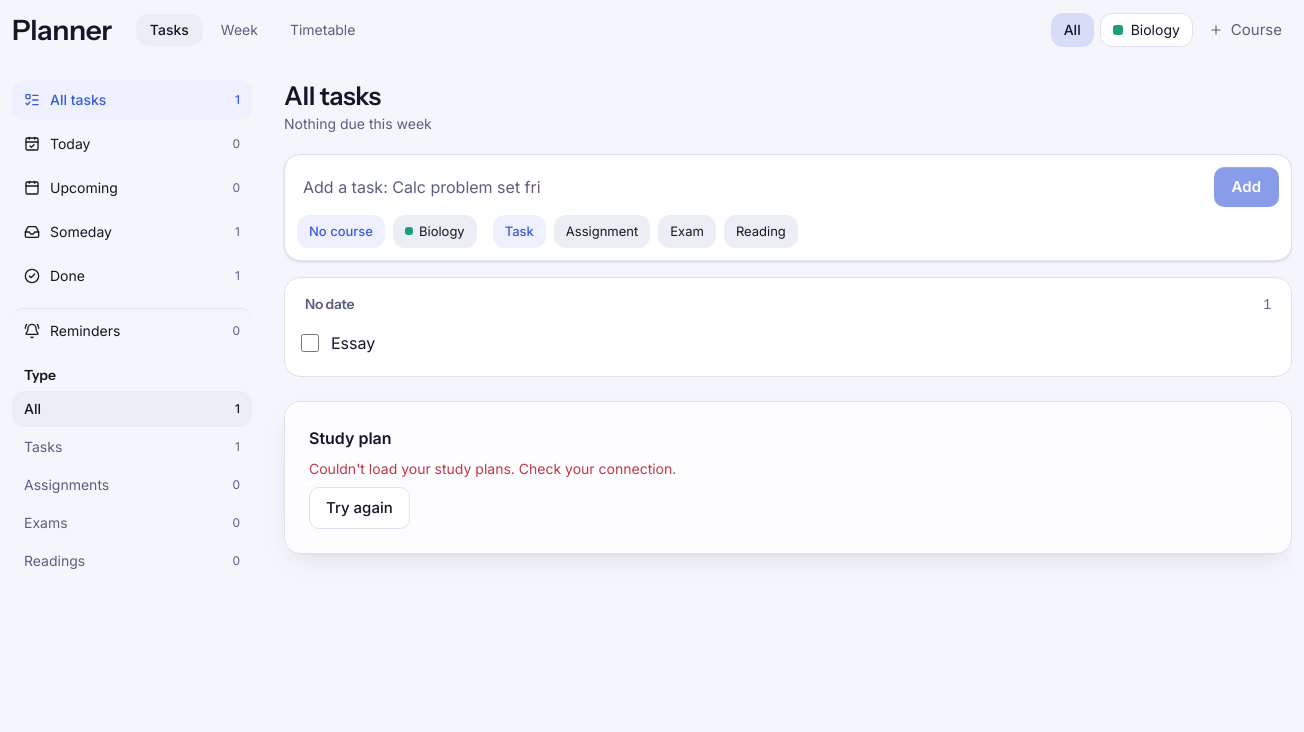
Scenario: Task list › keeps finished tasks in the Done list, which can bring one back
Check: the text "Old lab" is not shown
Click the button "Done 1". click: [132, 276]
box: [12,256,252,296]
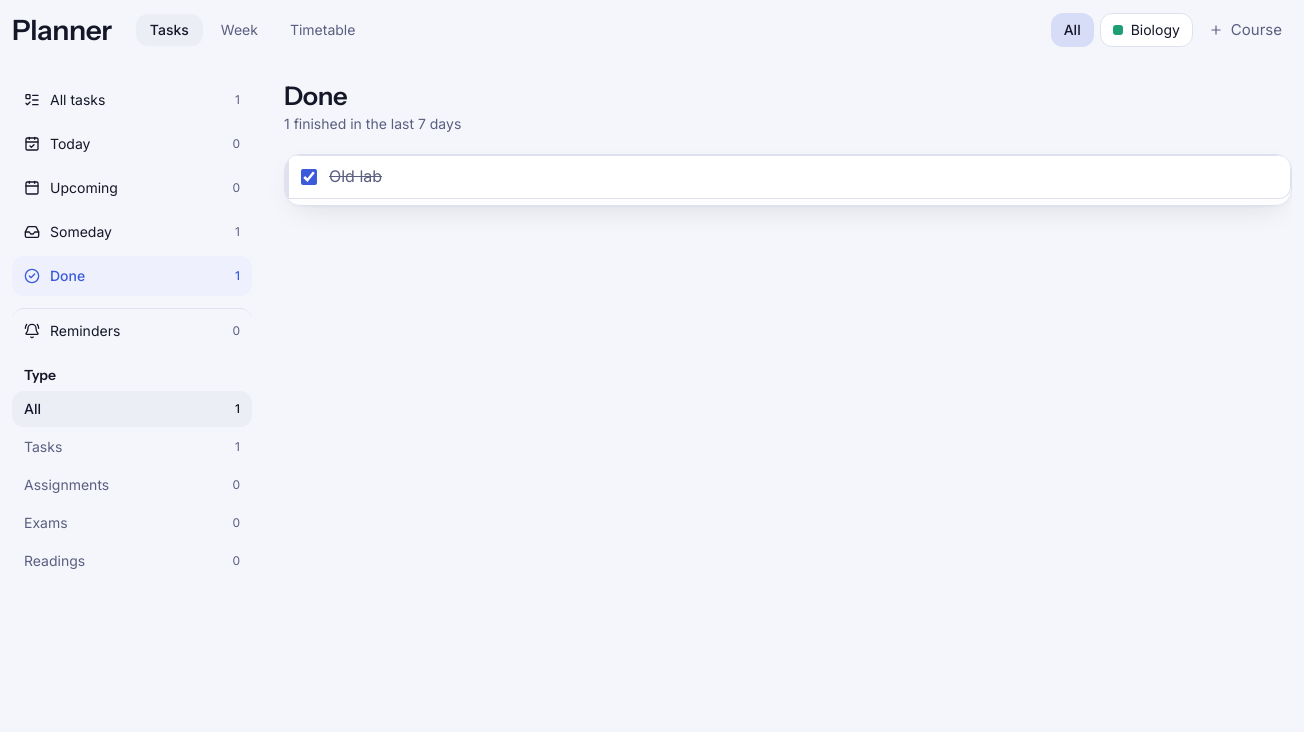
Check: the heading "Done" is shown, box [284,80,347,111]
Click the checkbox named "Mark Old lab done". click: [309, 177]
box: [301,169,317,185]
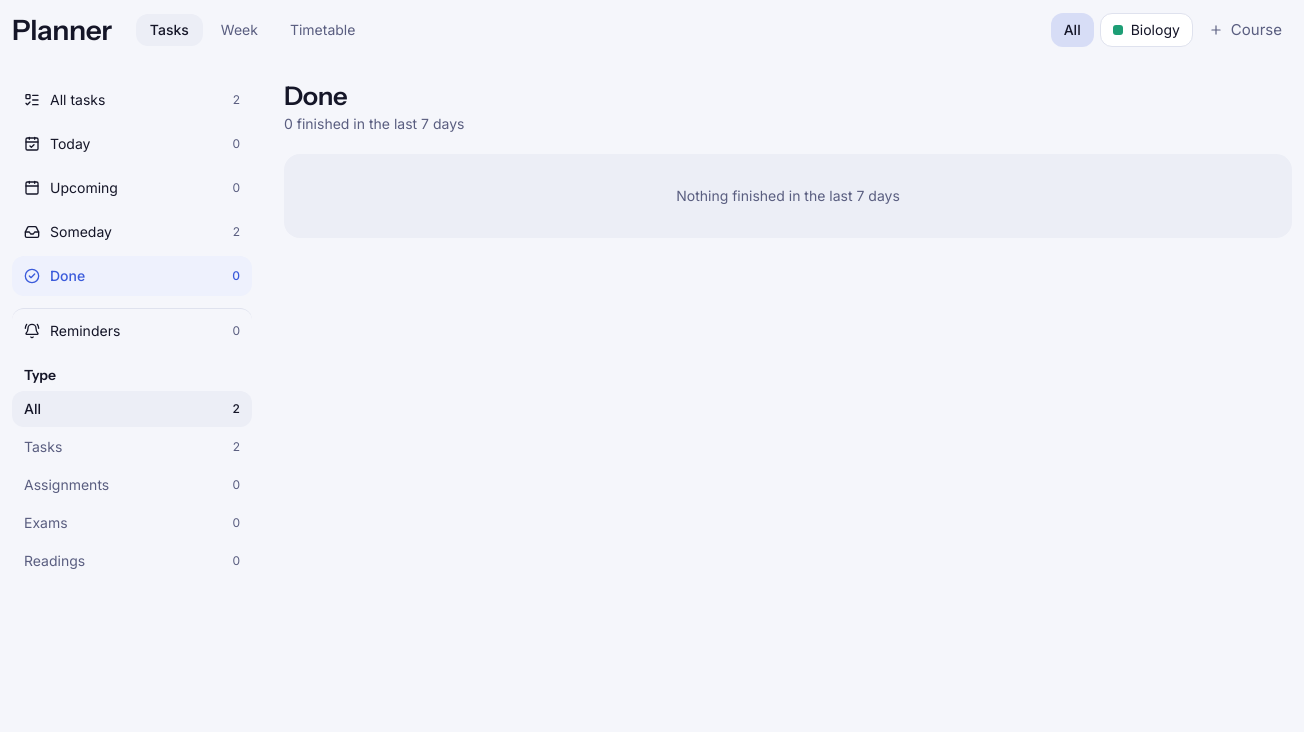
Click the button "All tasks 2". click: [132, 100]
box: [12,80,252,120]
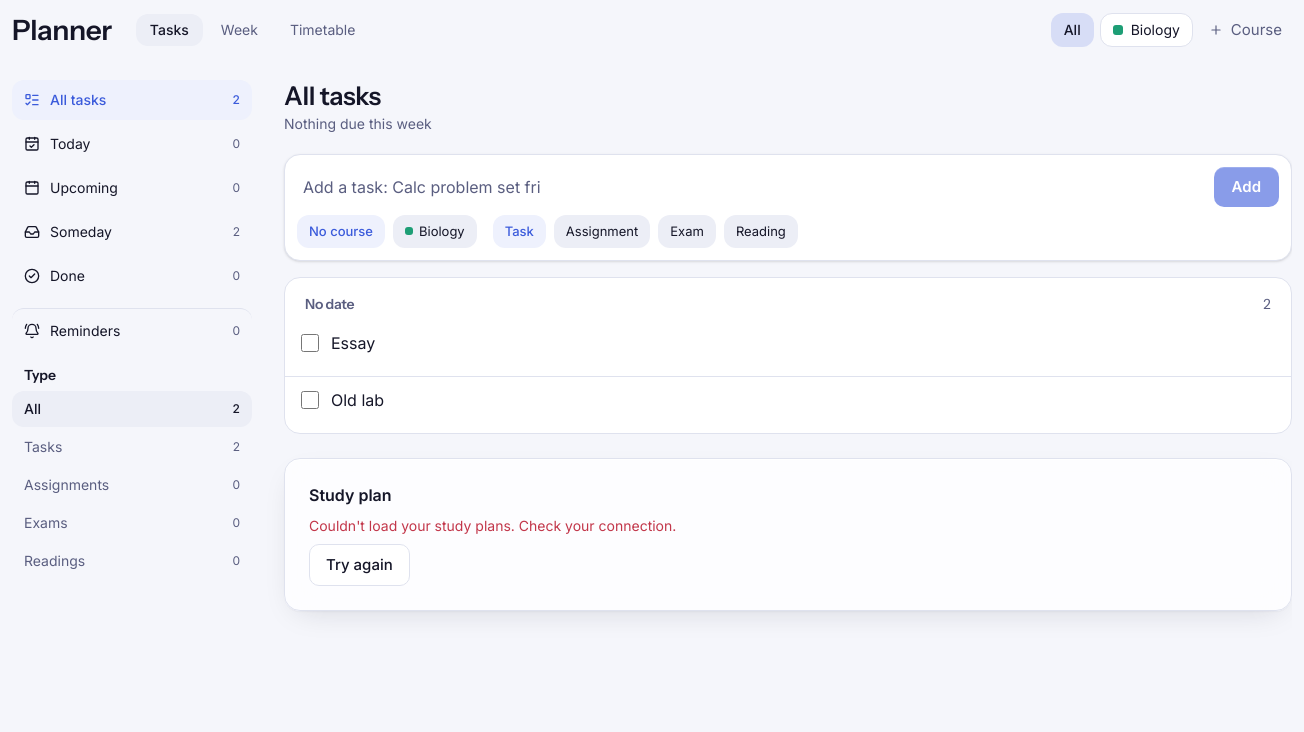
Check: the button with aria-label "Edit Old lab" is shown, box [331,389,384,411]
